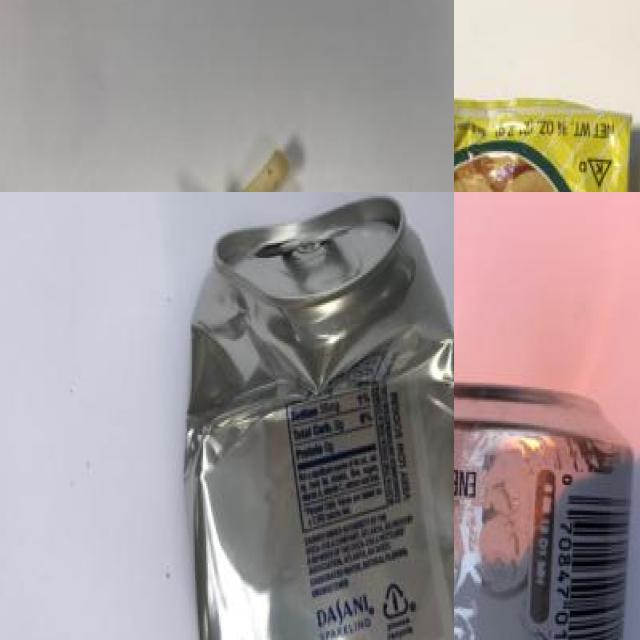compost: (94, 112, 454, 192)
plastic: (175, 220, 454, 640), (454, 374, 640, 640)
trash: (454, 73, 640, 192)
